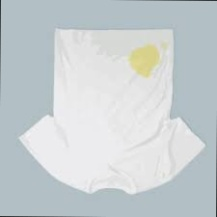mustard: (129, 46, 160, 79), (162, 41, 170, 52)
